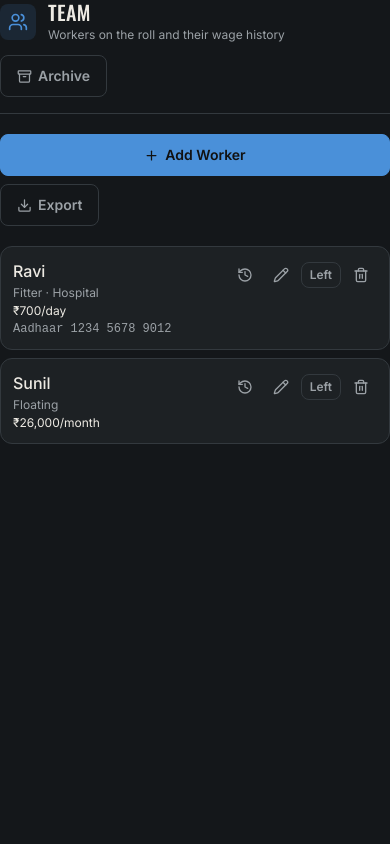
Scenario: interactive paths render › Team "Left" asks for the leaving date
The width and height of the screenshot is (390, 844).
Click the button "Left" in the row of "Fitter · Hospital": (321, 275) 301,262 -> 341,288
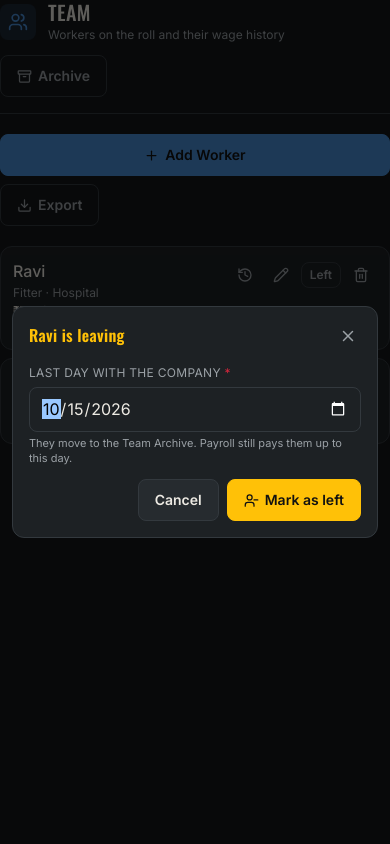
Expected: the text "Last day with the company" is shown, 29,365 -> 221,380
